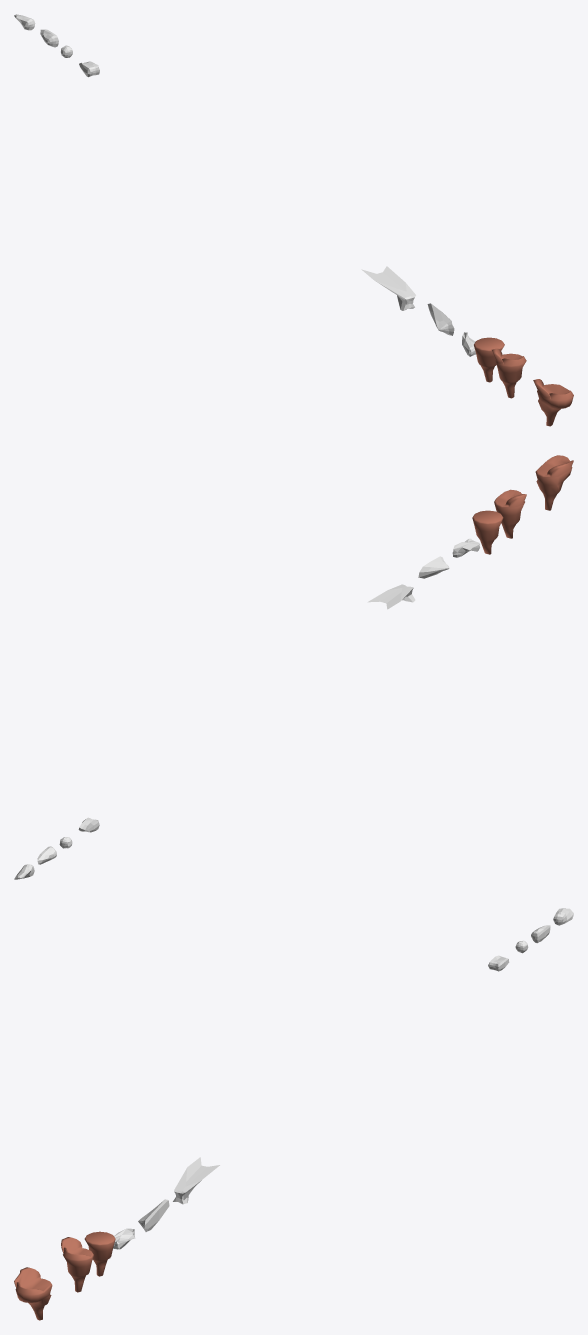
Rendered from RocksnIslands.fbx.
The picture shows the model from 3 angles, top to bottom: view 1: azimuth 30°, elevation 25°; view 2: azimuth 150°, elevation 25°; view 3: azimuth 330°, elevation 25°; orthographic projection.
Visible parts, largest first — view 1: Island, Island.002, Rock1.005, Island.001; view 2: Island, Island.002, Island.001, Rock1.005; view 3: Island, Island.002, Rock1.005, Island.001.
Boxes of the visible parts, box(x1,y1,x2,y2) form: Island: box(533, 379, 573, 426); Island.002: box(492, 348, 526, 398); Rock1.005: box(361, 266, 415, 310); Island.001: box(474, 337, 504, 382); Island: box(535, 455, 573, 510); Island.002: box(494, 489, 526, 538); Island.001: box(472, 510, 503, 554); Rock1.005: box(367, 584, 415, 609); Island: box(14, 1267, 52, 1320); Island.002: box(61, 1237, 93, 1292); Rock1.005: box(173, 1157, 219, 1204); Island.001: box(84, 1231, 115, 1276).
Size of the model in its own units: 901 by 1377 by 28211.
